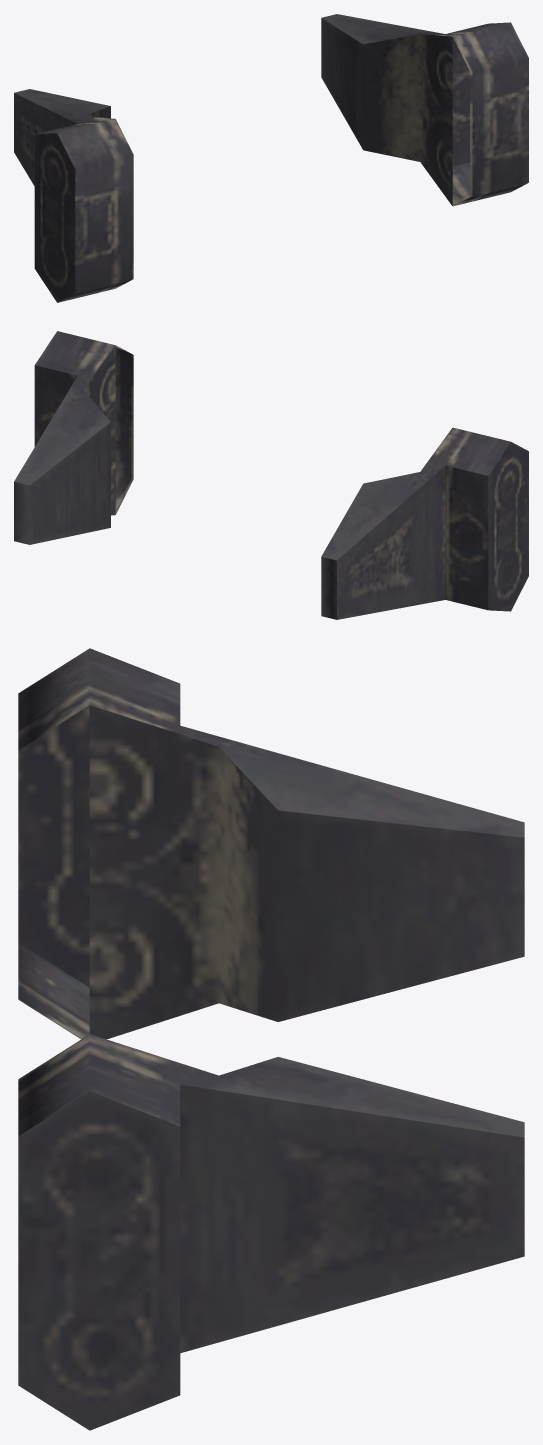
The picture shows the model from 3 angles, top to bottom: view 1: azimuth 30°, elevation 25°; view 2: azimuth 150°, elevation 25°; view 3: azimuth 270°, elevation 25°; orthographic projection. The views are drawn at different scales.
Parts seen in each view (by area): view 1: set_0_group_0; view 2: set_0_group_0; view 3: set_0_group_0.
Boxes of the visible parts, x1,y1,x2,y2 form: set_0_group_0: (14, 14, 528, 302); set_0_group_0: (14, 331, 528, 619); set_0_group_0: (18, 648, 524, 1430).
Size of the model in its own units: 0.3616 by 0.1293 by 0.1747.
1 material, 1 textured.
